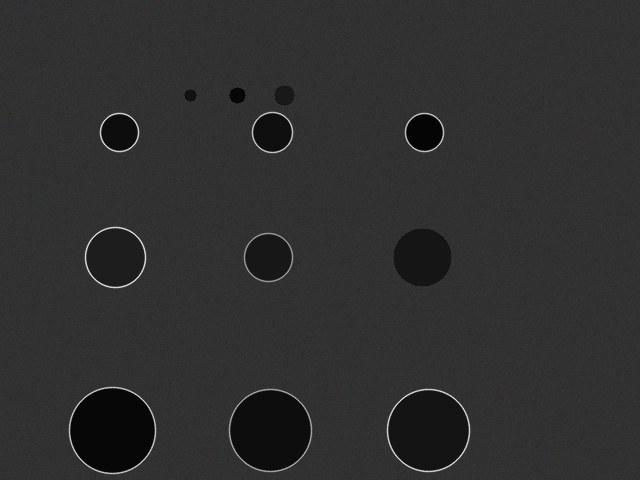hole: (69, 387, 155, 473), (229, 389, 311, 471), (387, 389, 469, 471), (85, 227, 145, 287), (393, 228, 451, 286), (244, 233, 292, 281), (252, 112, 292, 152), (100, 113, 138, 151), (405, 113, 443, 151), (274, 85, 294, 105), (229, 87, 245, 103), (184, 89, 196, 101)
